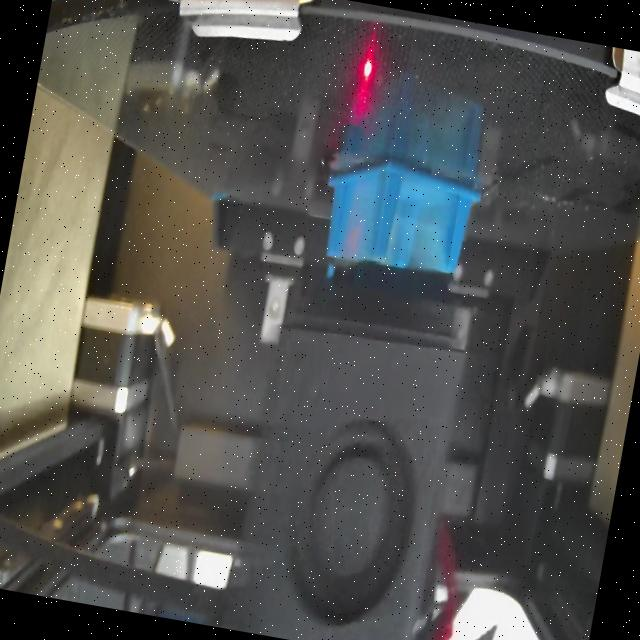stringing: (386, 175, 462, 272), (330, 175, 383, 262)
